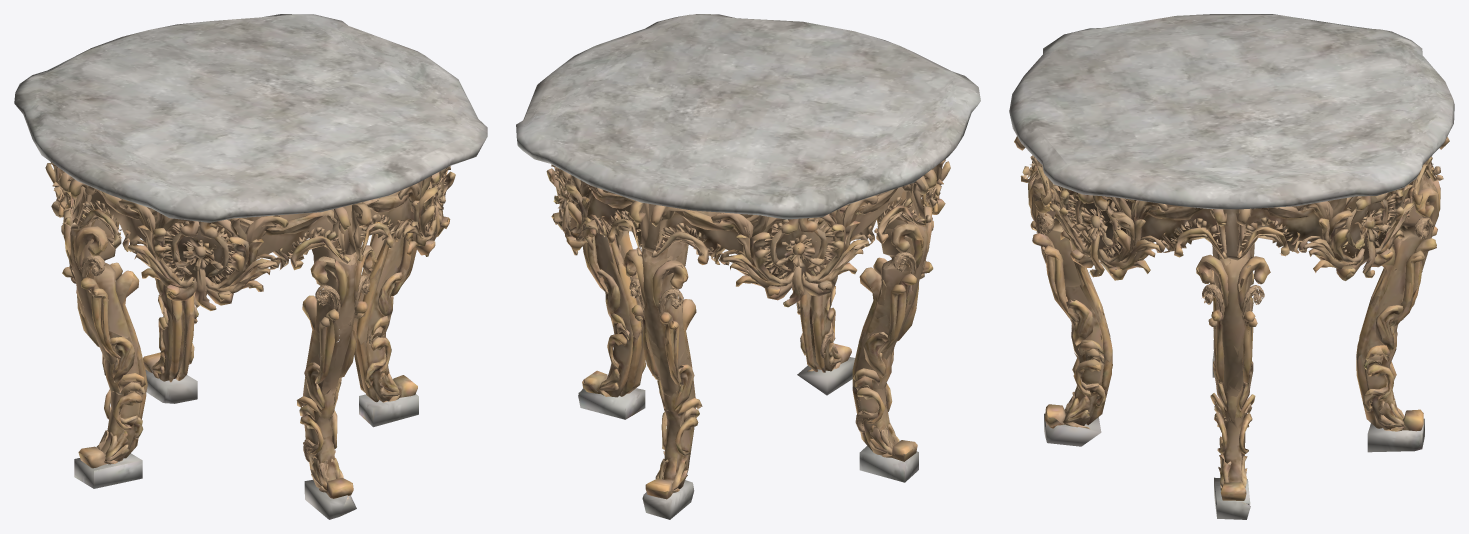
The model's file is antique-table.glb.
3 renders of one model, left to right at view 1: azimuth 30°, elevation 25°; view 2: azimuth 150°, elevation 25°; view 3: azimuth 270°, elevation 25°, orthographic.
Parts seen in each view (by area): view 1: Object_0; view 2: Object_0; view 3: Object_0.
Part boxes in pixels (box(x1,y1,x2,y2)): Object_0: box(14, 14, 487, 519); Object_0: box(516, 14, 980, 519); Object_0: box(1009, 14, 1454, 519).
Bounding box in the file's own units: 1.4 × 1.2 × 1.4.
Materials: 1 (1 with a texture image).
